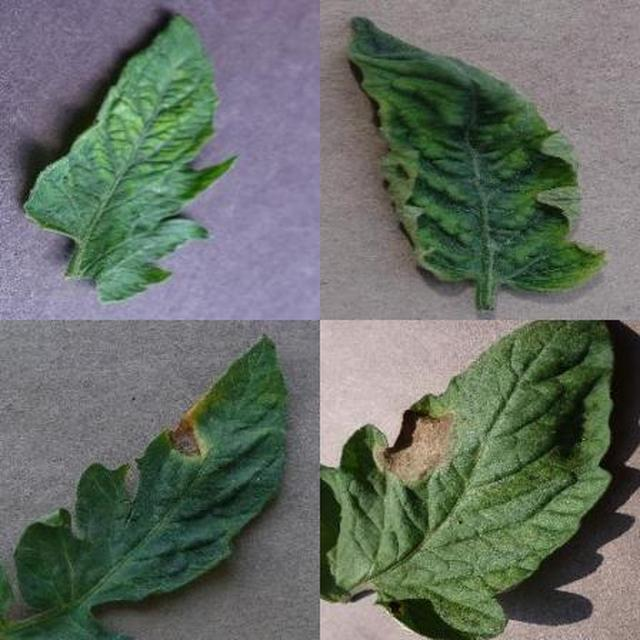Mosaic Virus Leaf: (187, 221, 640, 640)
